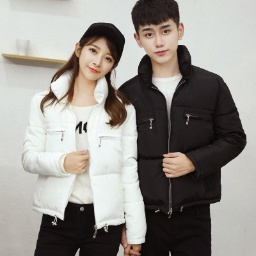face: (130, 2, 184, 67), (71, 26, 123, 81)
